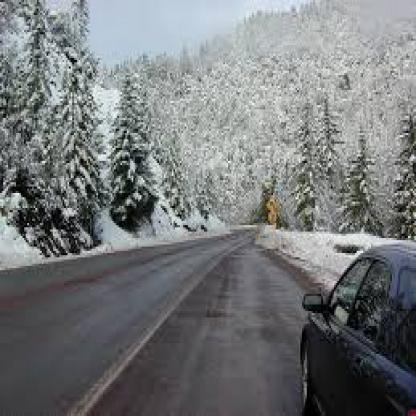car: (269, 230, 416, 416)
